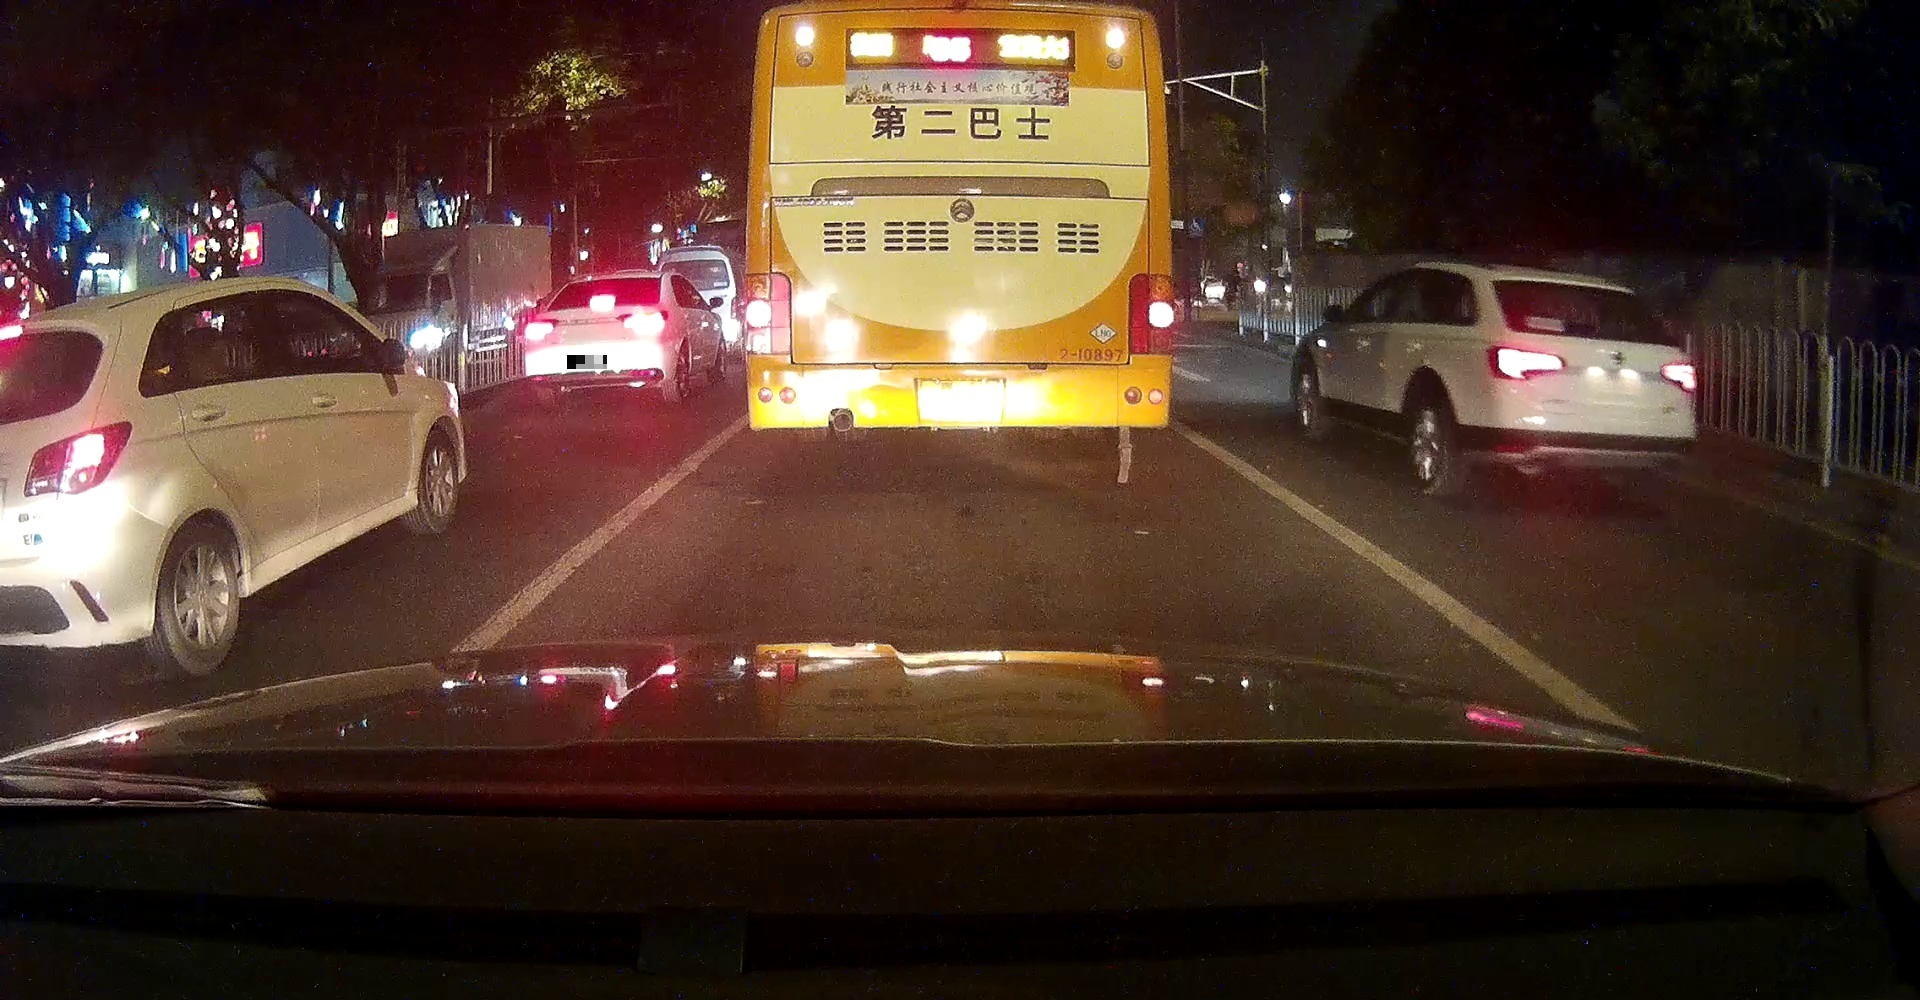L_light: (744, 272, 791, 357), (1486, 344, 1564, 381), (523, 319, 557, 341)
R_light: (1128, 273, 1175, 355), (1658, 360, 1697, 393), (618, 310, 668, 334)
T_light: (913, 8, 982, 28), (590, 294, 615, 311), (1573, 286, 1608, 294)
night-brake: (524, 270, 670, 409)
night-no: (743, 0, 1176, 456), (1481, 266, 1698, 501)
plate_1: (568, 355, 607, 369)
